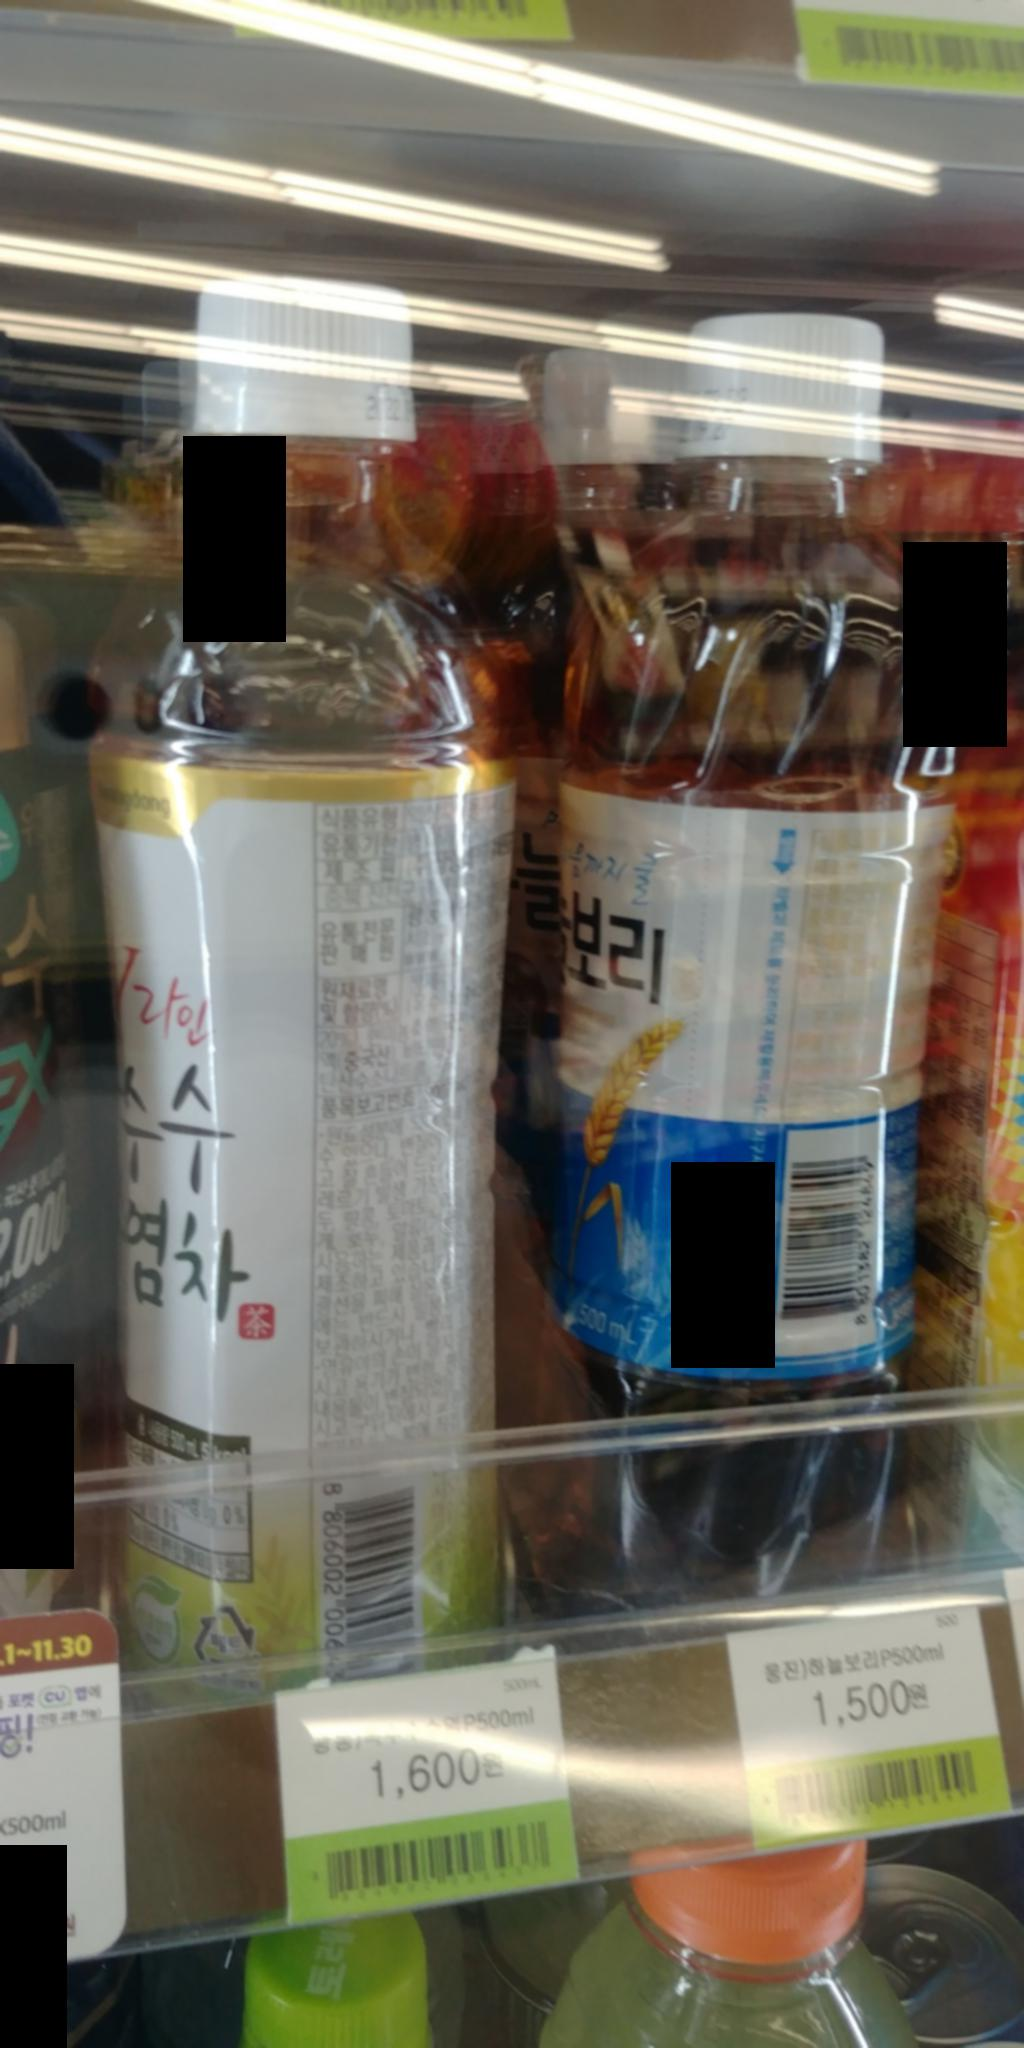haneulbori: (550, 259, 930, 1574)
oksususuyeomcha: (91, 273, 522, 1661)
